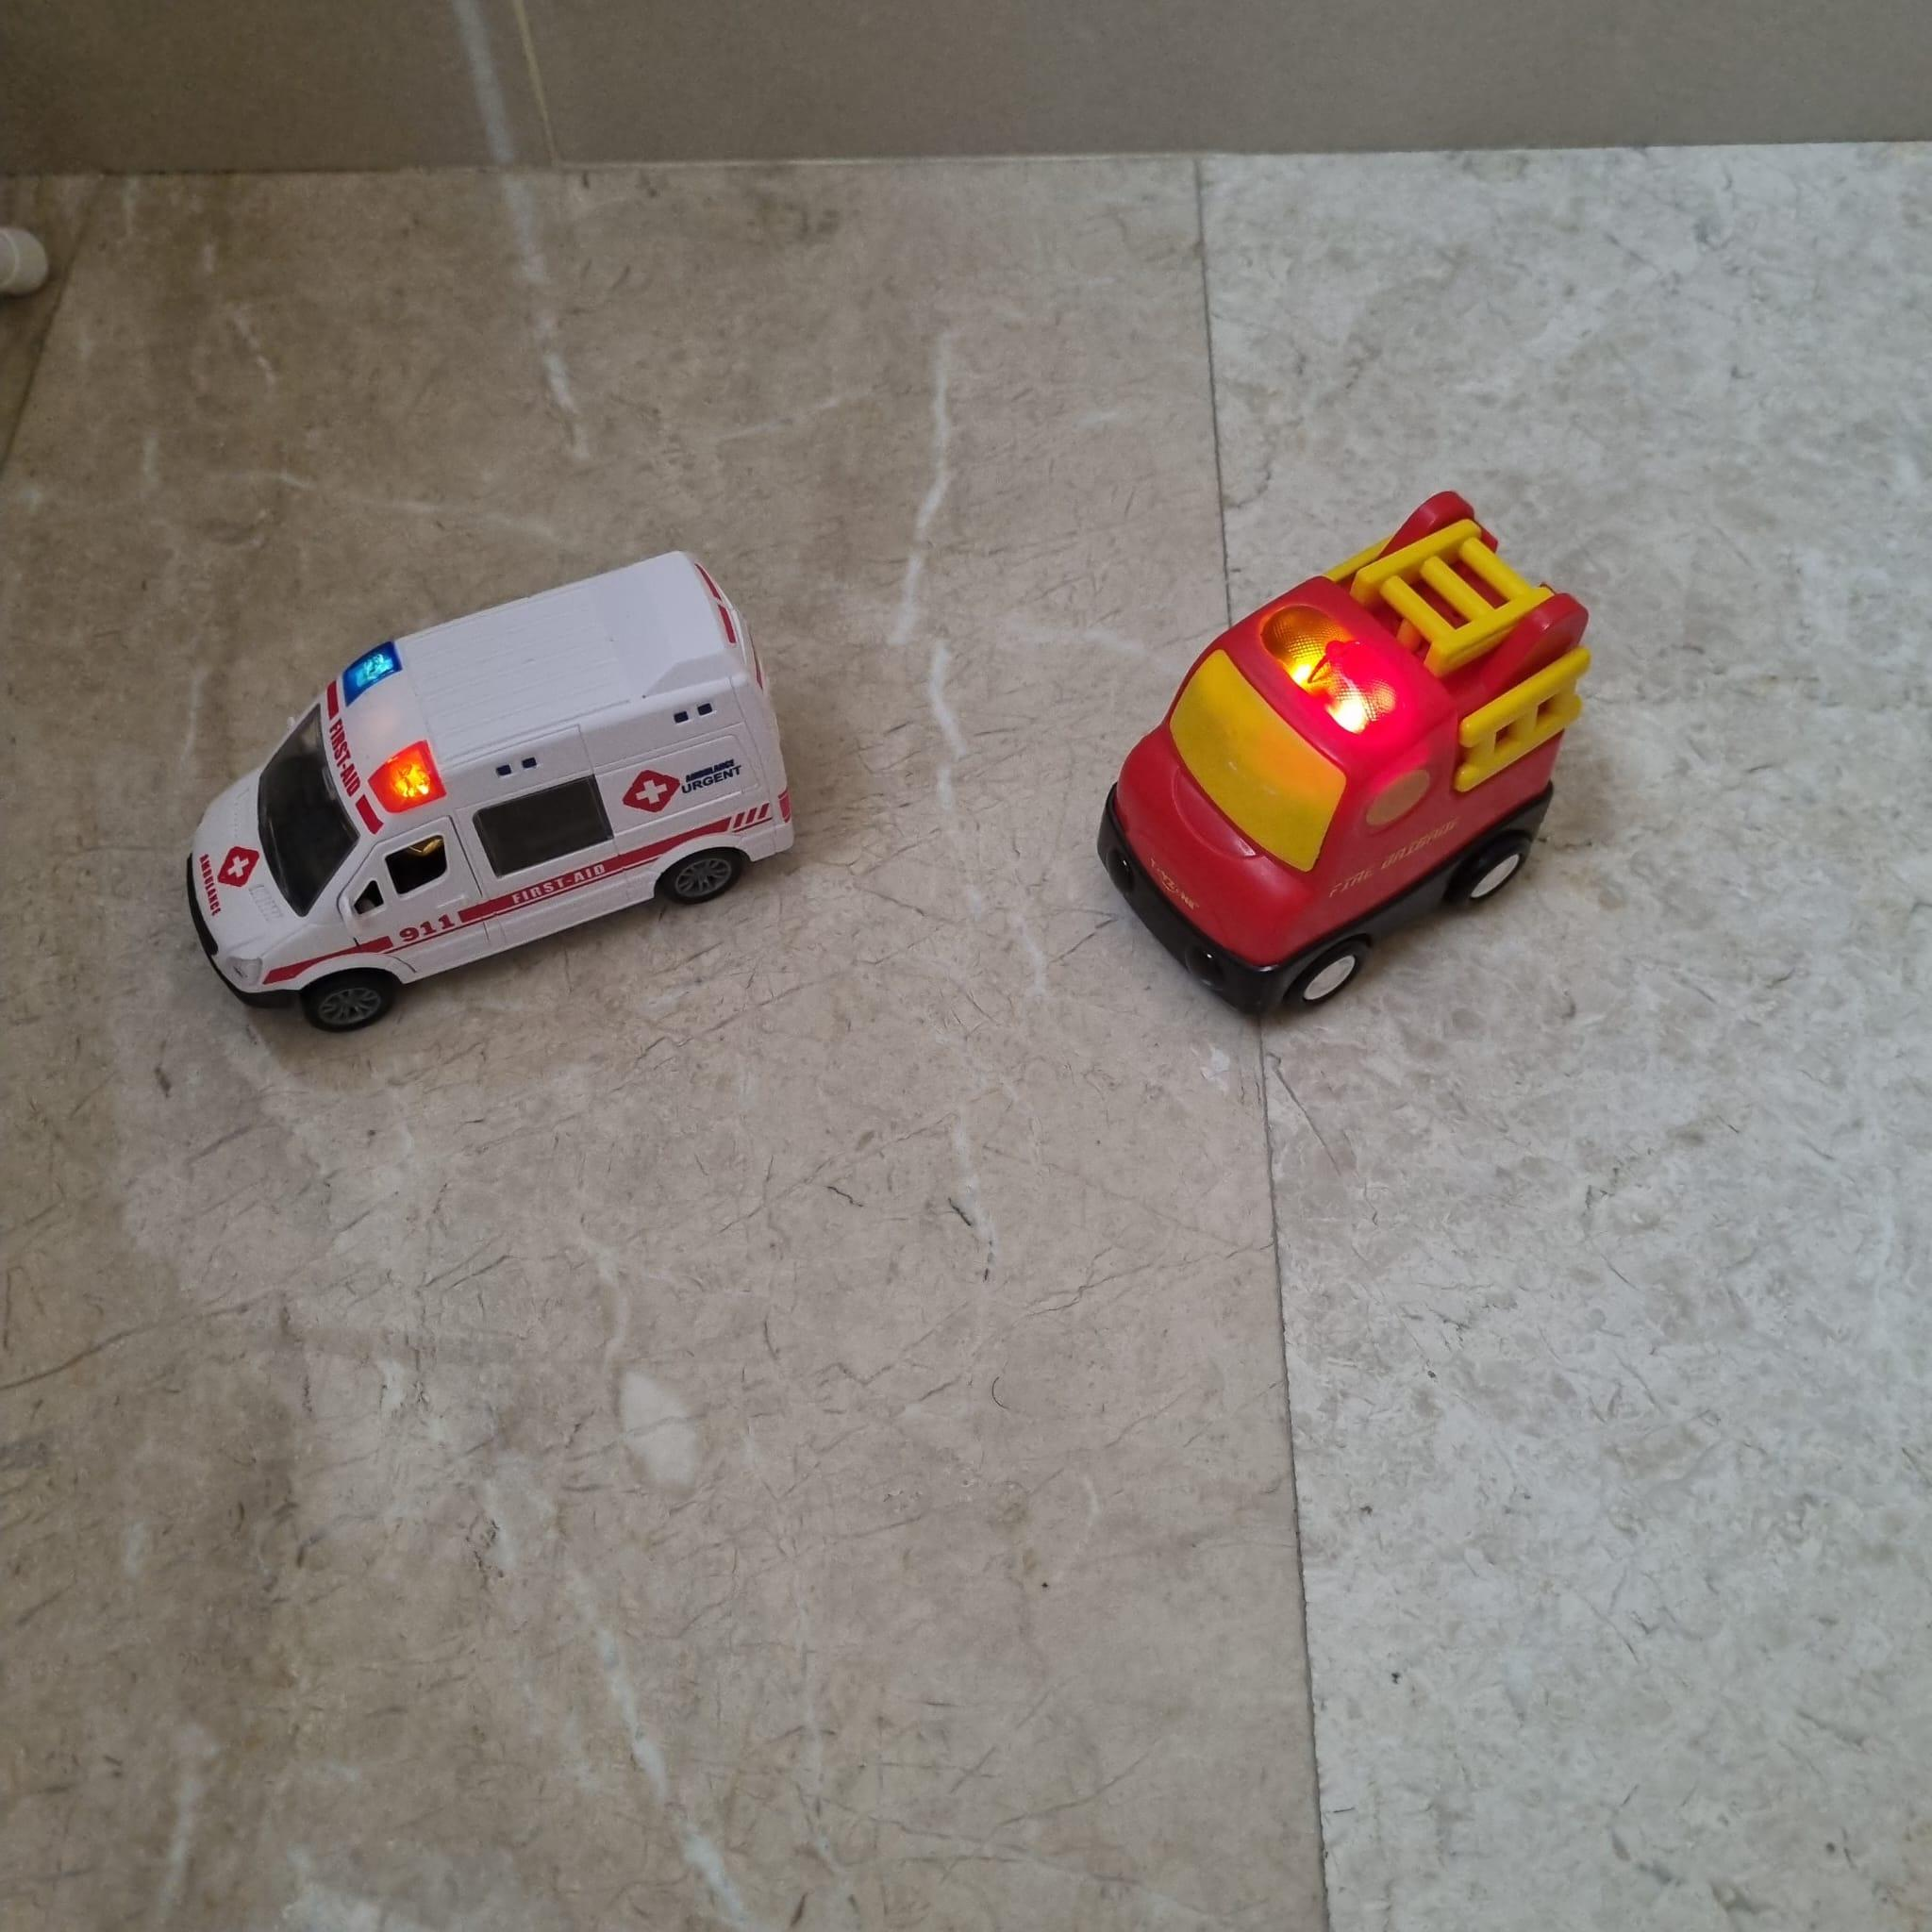ambulance_on: (181, 550, 794, 1030)
firetruck_on: (1102, 488, 1589, 1015)
